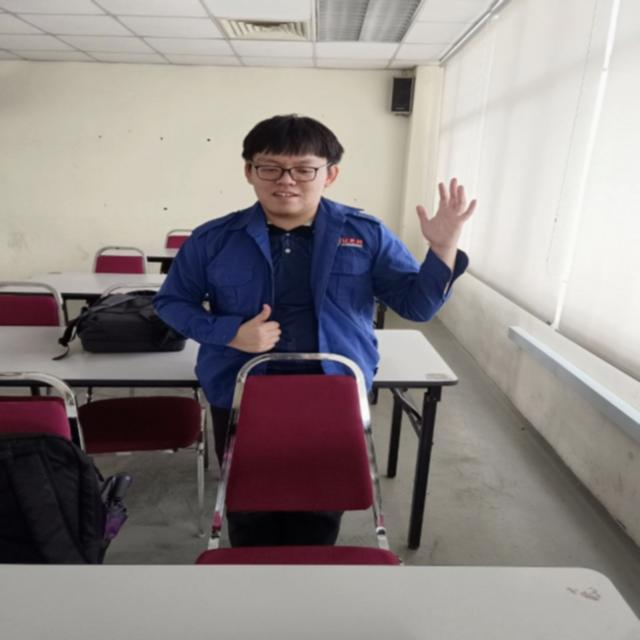person_with_labcoat: (153, 114, 475, 464)
